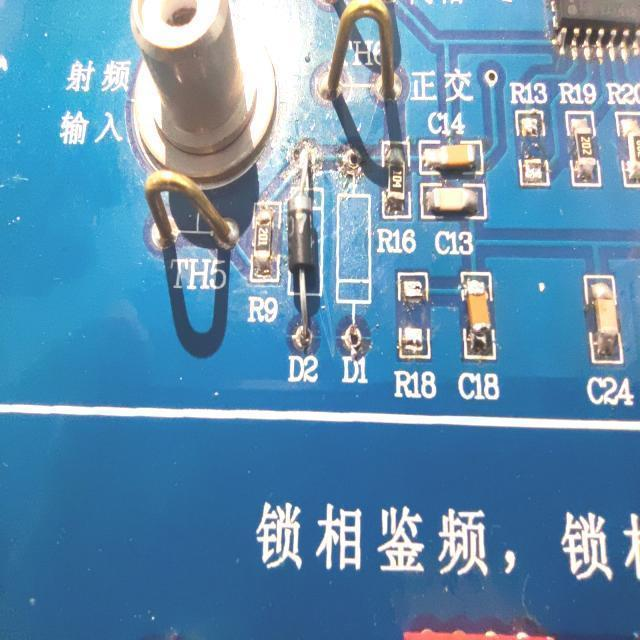Missing component: (333, 146, 373, 385), (392, 266, 436, 402), (509, 80, 552, 190)
